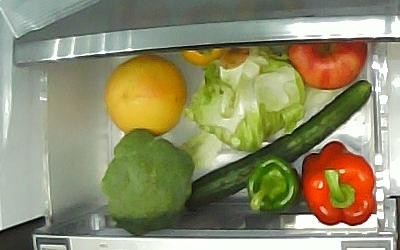apple: (285, 40, 367, 91)
broccoli: (100, 129, 223, 235)
cucumber: (181, 79, 372, 210)
grapefruit: (104, 57, 187, 136)
lettuce: (183, 47, 305, 155)
paprika: (301, 141, 378, 226), (247, 156, 301, 217)
persimmon: (175, 48, 228, 68)
